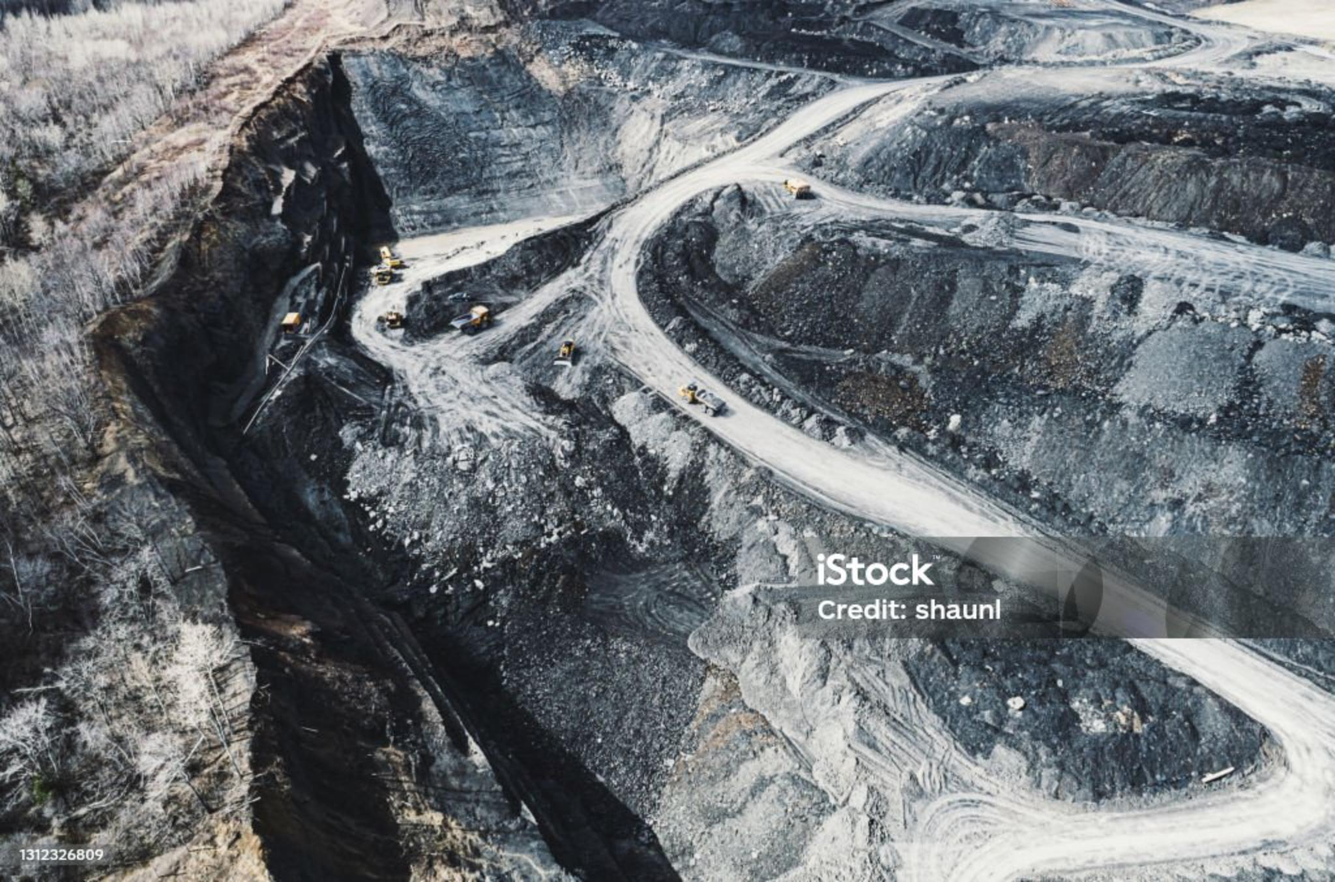benches: (352, 86, 1017, 532), (581, 83, 1030, 537), (898, 638, 1334, 881), (1010, 212, 1334, 310), (1111, 0, 1334, 82)
truck: (452, 298, 496, 337), (685, 384, 732, 418), (380, 239, 401, 289), (561, 326, 576, 375), (282, 306, 306, 336), (788, 180, 810, 197)
wall: (640, 184, 1334, 533), (830, 90, 1334, 249)
